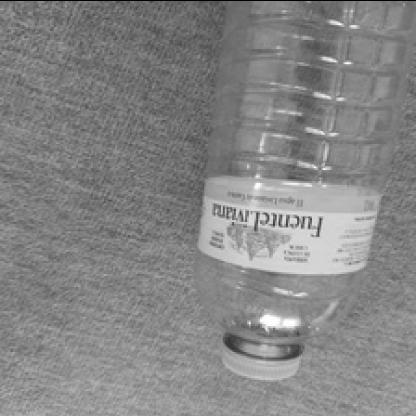plastic_bottles: (192, 0, 402, 374)
